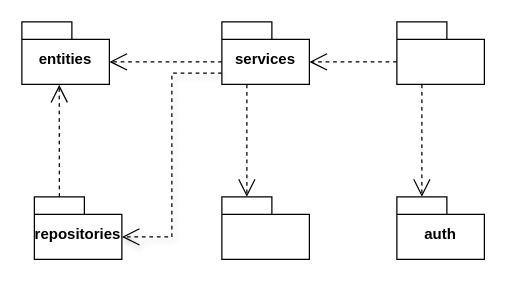
The diagram is 506 pixels wide and 285 high, and some of its shapes have lost their labels. The centre of each missing label's shape, as x and y in pixels:
"controllers" goes at pixel 440 52.
"math" goes at pixel 265 227.
